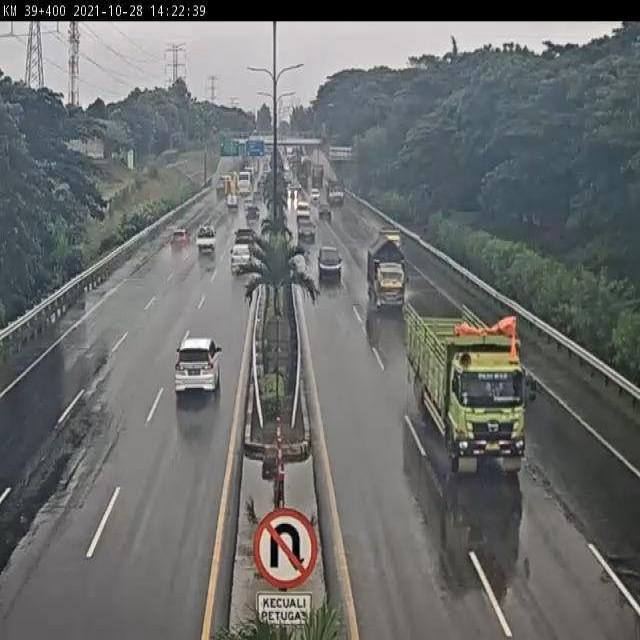big truck: (422, 328, 538, 483)
car: (171, 332, 222, 404), (315, 244, 344, 284), (194, 223, 217, 257), (230, 244, 251, 277), (233, 227, 257, 254), (296, 217, 317, 247), (167, 227, 189, 252), (294, 200, 313, 223), (317, 199, 333, 225)
small truck: (365, 238, 408, 314), (219, 175, 236, 193), (224, 189, 240, 208)
